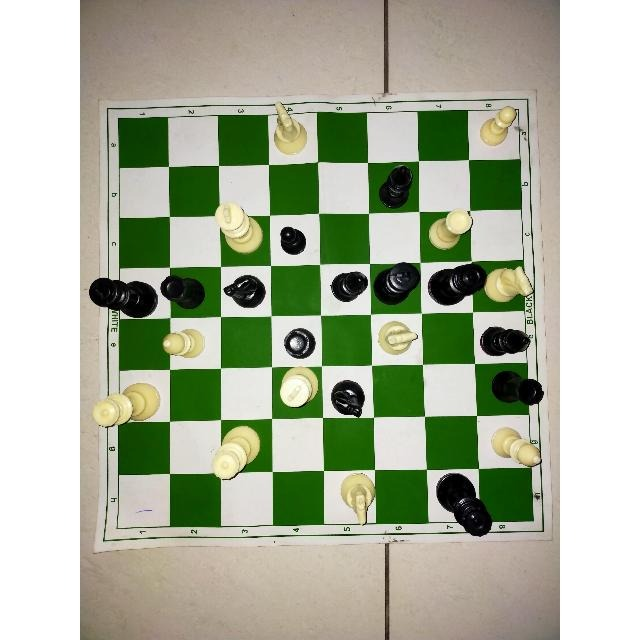black-bishop: (373, 157, 415, 217), (478, 321, 534, 363), (327, 265, 369, 307)
black-king: (87, 273, 160, 325), (372, 255, 420, 307)
black-knight: (222, 272, 268, 313), (329, 379, 369, 425)
black-pawn: (277, 221, 310, 259)
black-queen: (433, 470, 495, 542), (427, 255, 489, 307)
black-rook: (489, 368, 546, 408), (158, 270, 208, 313), (281, 324, 316, 364)
white-bishop: (487, 425, 547, 473), (158, 324, 210, 362)
white-king: (211, 196, 267, 259), (276, 366, 319, 414), (277, 367, 321, 412)
white-knight: (266, 98, 314, 158), (336, 471, 382, 529), (483, 257, 529, 308), (373, 316, 421, 364)
white-pawn: (472, 103, 521, 147)
white-queen: (91, 379, 162, 435), (207, 422, 264, 486)
white-rook: (426, 206, 476, 254)
